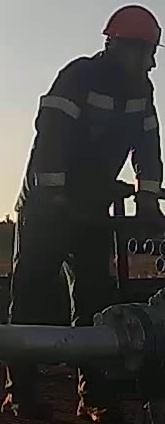gloves: (131, 185, 165, 241)
helmet: (100, 3, 164, 48)
vest: (15, 55, 164, 238)
